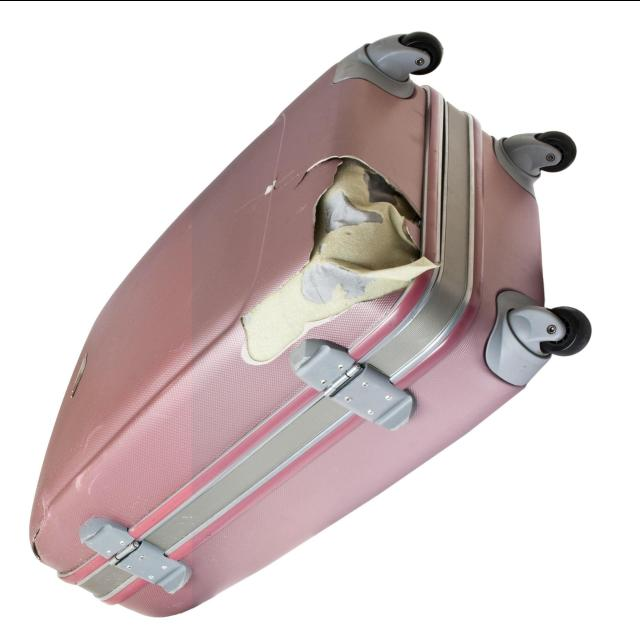Damage-bag: (242, 156, 437, 364), (32, 496, 45, 560), (265, 180, 282, 193)
